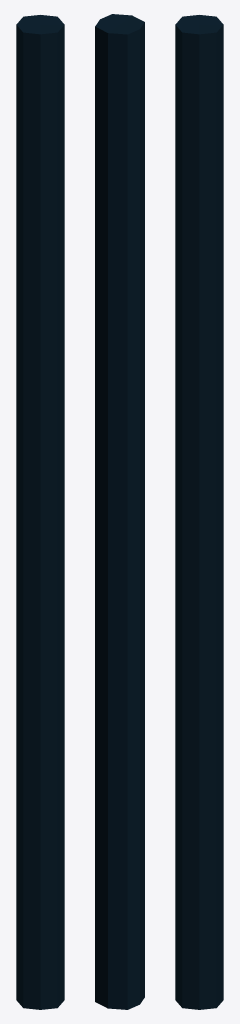
File: Rope.fbx
3 renders of one model, left to right at view 1: azimuth 90°, elevation 25°; view 2: azimuth 150°, elevation 25°; view 3: azimuth 270°, elevation 25°, orthographic.
Parts seen in each view (by area): view 1: Rope; view 2: Rope; view 3: Rope.
Boxes of the visible parts, left/top/right/bottom form: Rope: left=16, top=15, right=64, bottom=1009; Rope: left=95, top=14, right=144, bottom=1009; Rope: left=175, top=15, right=223, bottom=1009.
Size of the model in its own units: 18.62 by 400 by 19.61.
